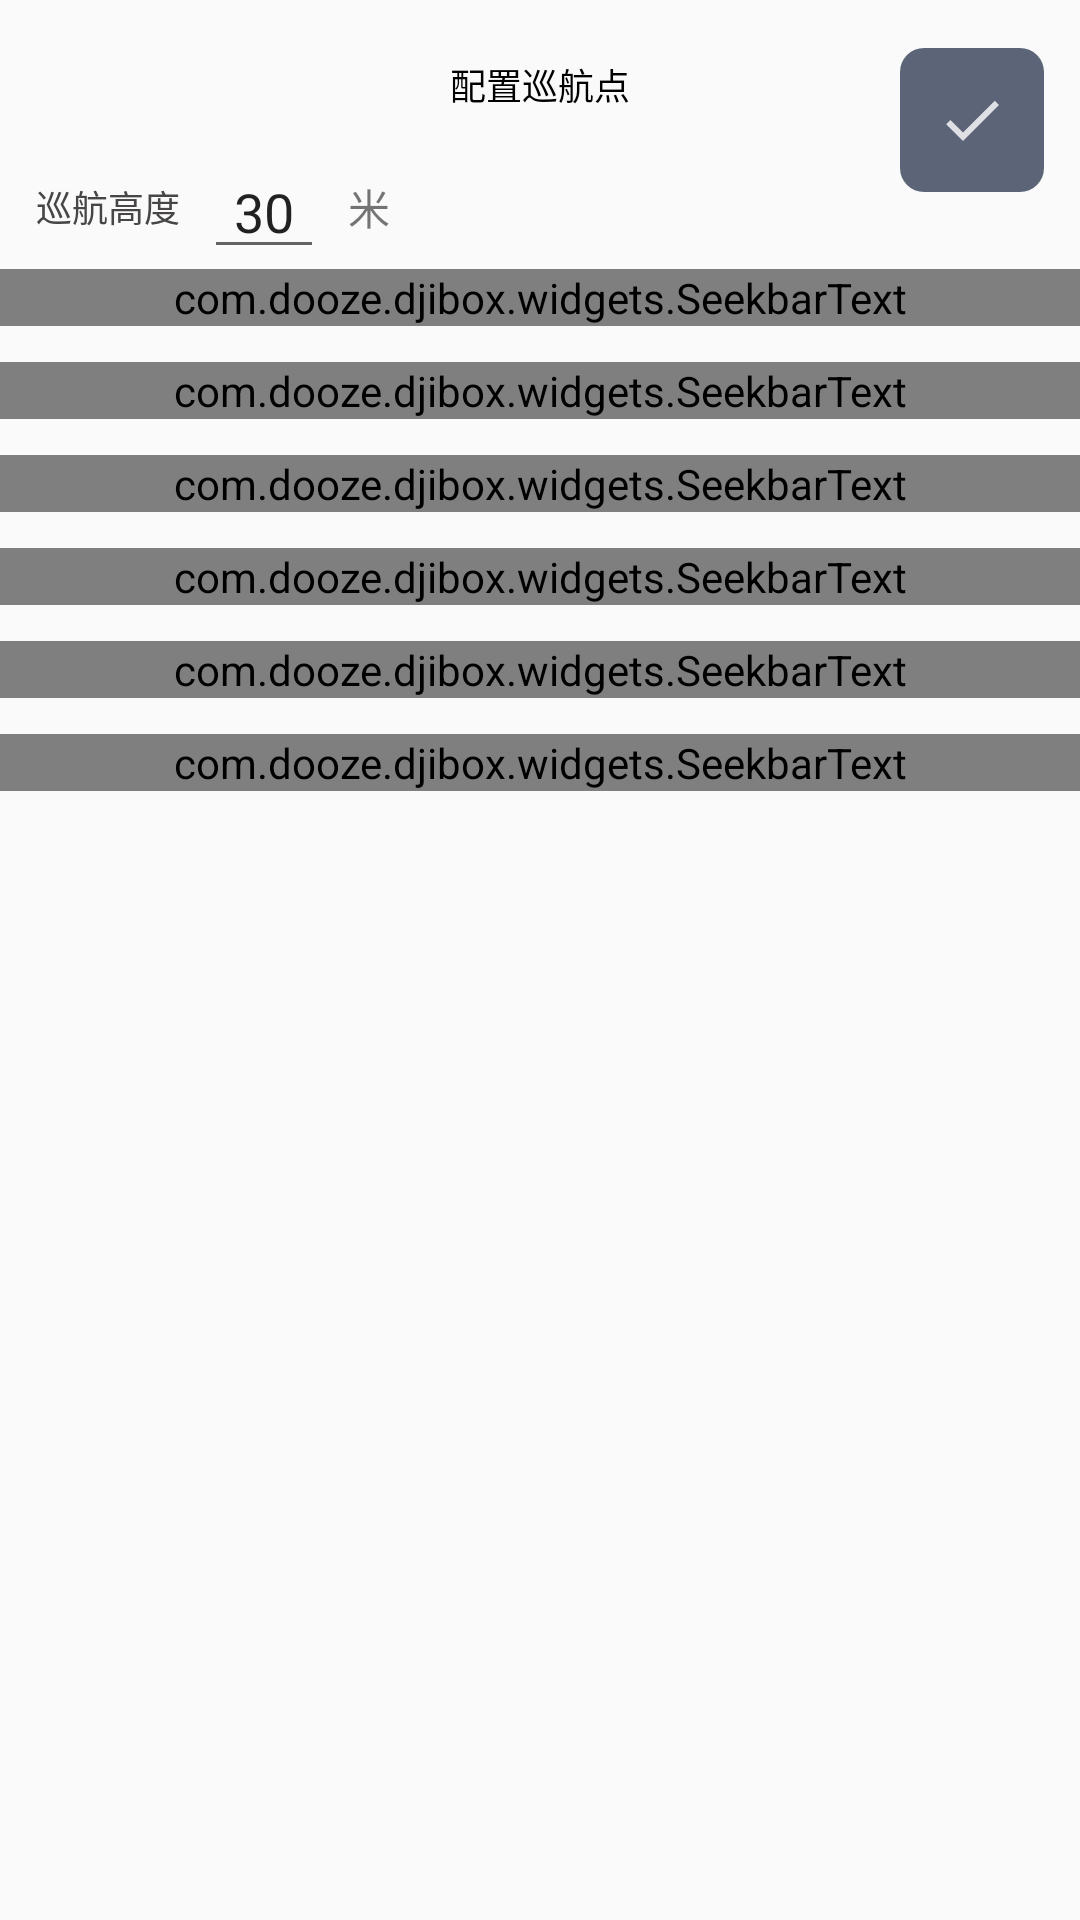

Locate icon controls on the screen. Image size 1080*1920, boxes as (x1, y1, x2, y2).
done: (900, 48, 1044, 192)
